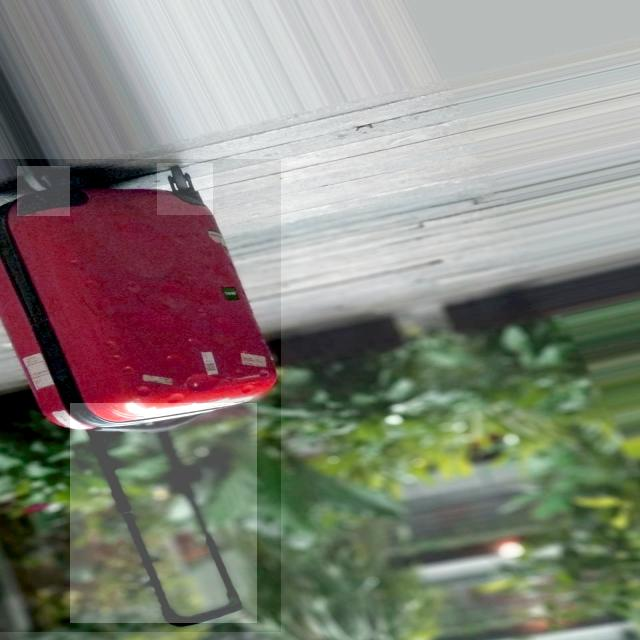Bag: (3, 149, 287, 640)
Handle: (92, 424, 260, 627)
